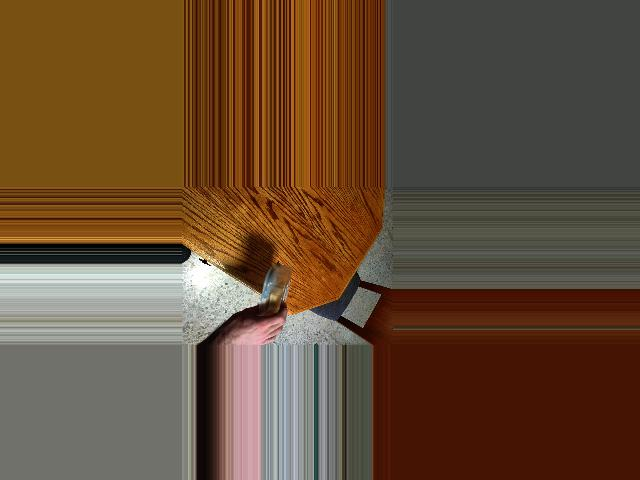cheese: (249, 269, 292, 315)
